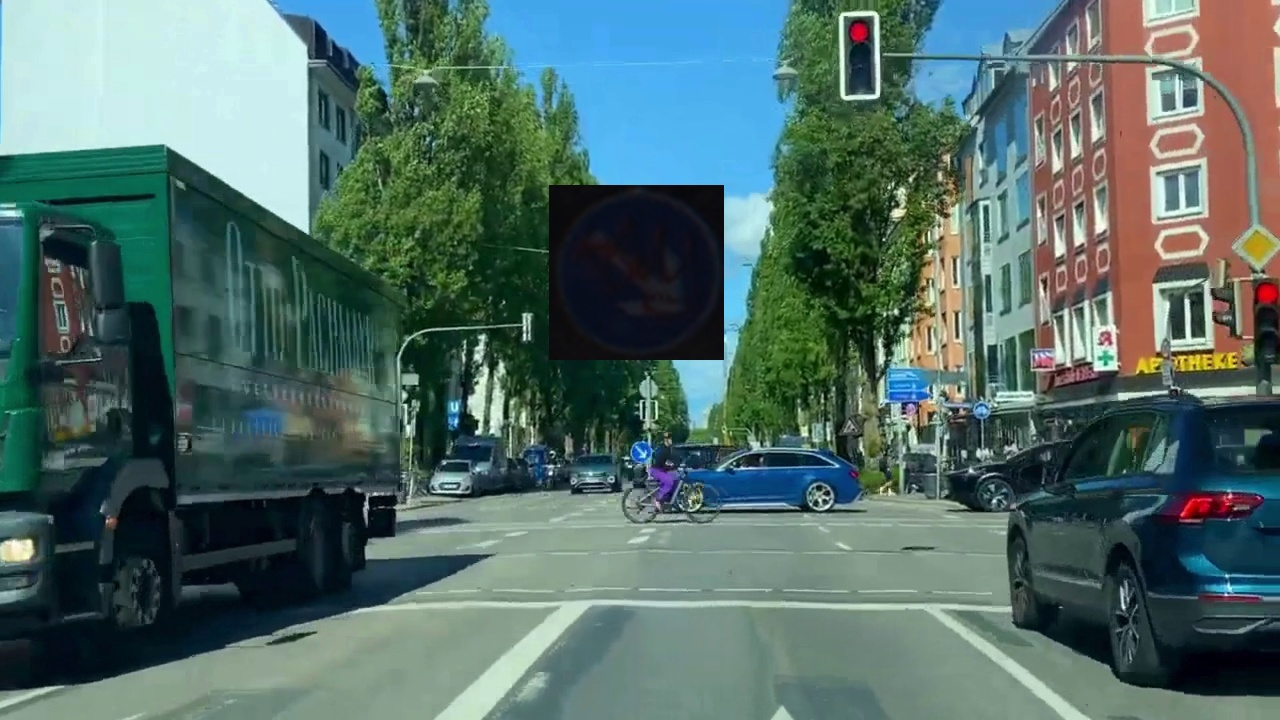Keep right: (549, 185, 724, 360)
